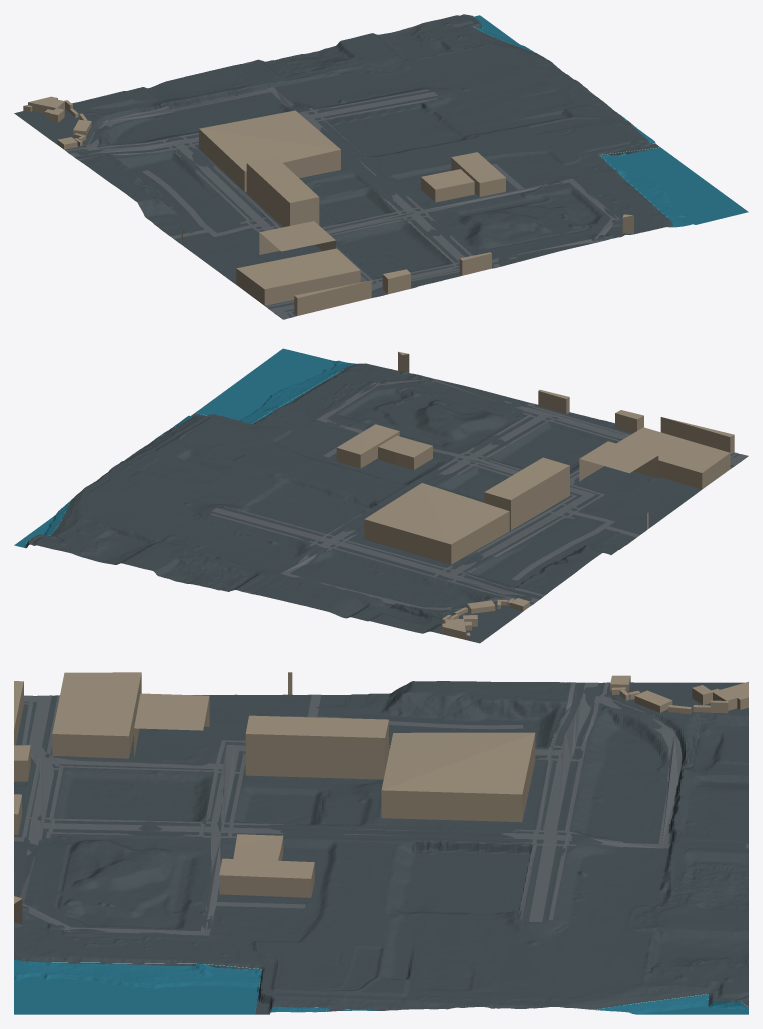
Rendered from epsg26910-1443-10883.lod0.glb.
3 renders of one model, top to bottom at view 1: azimuth 30°, elevation 25°; view 2: azimuth 150°, elevation 25°; view 3: azimuth 270°, elevation 25°, orthographic. The views are drawn at different scales.
Parts seen in each view (by area): view 1: epsg26910-1443-10883-lod0; view 2: epsg26910-1443-10883-lod0; view 3: epsg26910-1443-10883-lod0.
Boxes of the visible parts, left/top/right/bottom form: epsg26910-1443-10883-lod0: left=14, top=14, right=748, bottom=319; epsg26910-1443-10883-lod0: left=14, top=348, right=748, bottom=643; epsg26910-1443-10883-lod0: left=14, top=672, right=748, bottom=1014.
Size of the model in its own units: 384 by 30.02 by 384.
